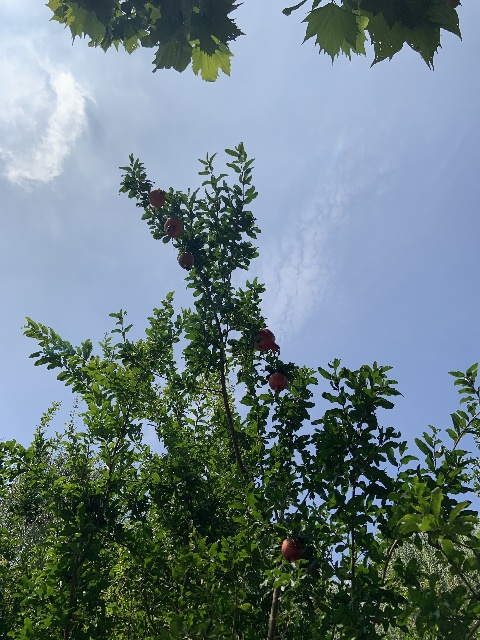ripe: (254, 328, 280, 355), (281, 538, 303, 562), (163, 216, 183, 238), (268, 372, 288, 392), (148, 187, 165, 208), (177, 253, 194, 271)
